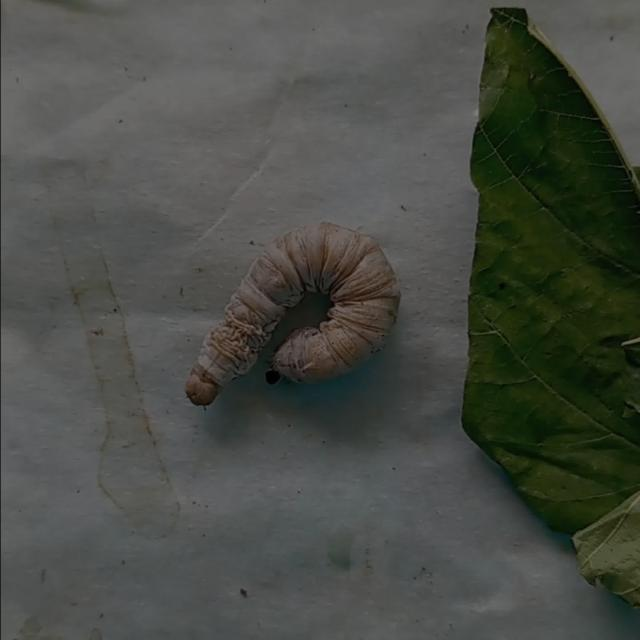Grasserie: (175, 205, 413, 416)
